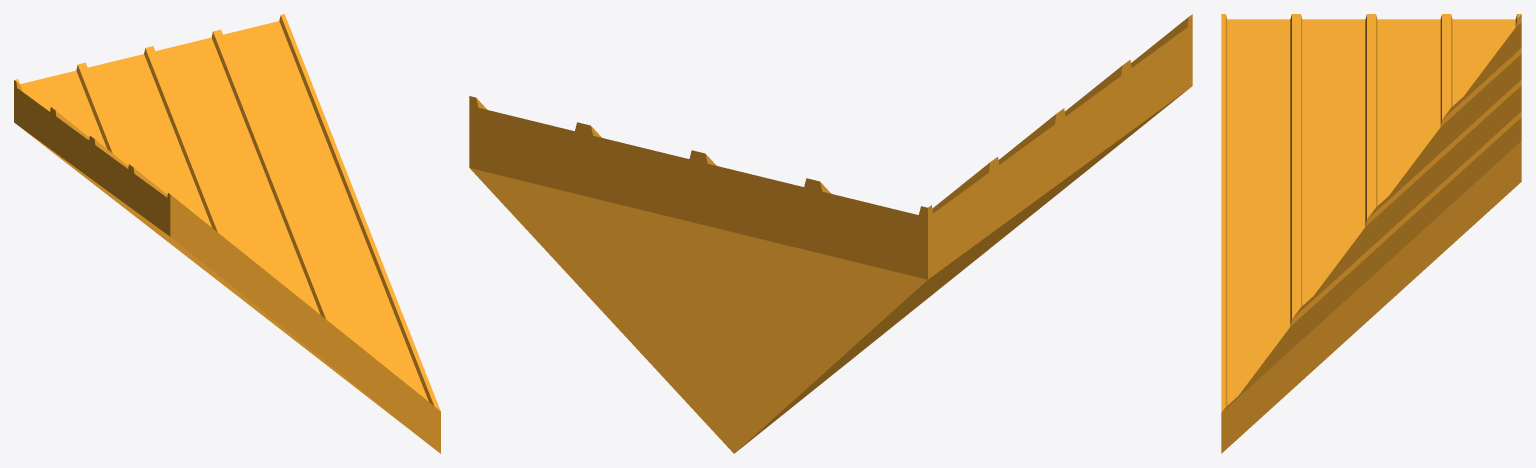
The model's file is SM_Roof_Metal_Regular_2x2m_Corner_B.fbx.
The picture shows the model from 3 angles, left to right: view 1: azimuth 30°, elevation 25°; view 2: azimuth 150°, elevation 25°; view 3: azimuth 270°, elevation 25°; orthographic projection. The views are drawn at different scales.
Visible parts, largest first — view 1: roof-metal-regular-2x2m-corner-b; view 2: roof-metal-regular-2x2m-corner-b; view 3: roof-metal-regular-2x2m-corner-b.
Part boxes in pixels (left/top/right/bottom): roof-metal-regular-2x2m-corner-b: left=14, top=14, right=440, bottom=453; roof-metal-regular-2x2m-corner-b: left=469, top=14, right=1192, bottom=453; roof-metal-regular-2x2m-corner-b: left=1221, top=14, right=1521, bottom=453.
Size of the model in its own units: 2 by 2.3 by 2.
